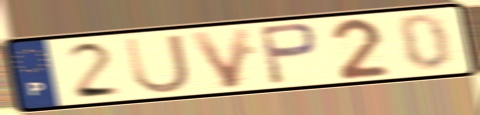0: (397, 12, 454, 74)
2: (329, 16, 395, 82), (60, 41, 123, 101)
P: (255, 21, 322, 87)
U: (121, 31, 194, 96)
V: (186, 25, 254, 91)
